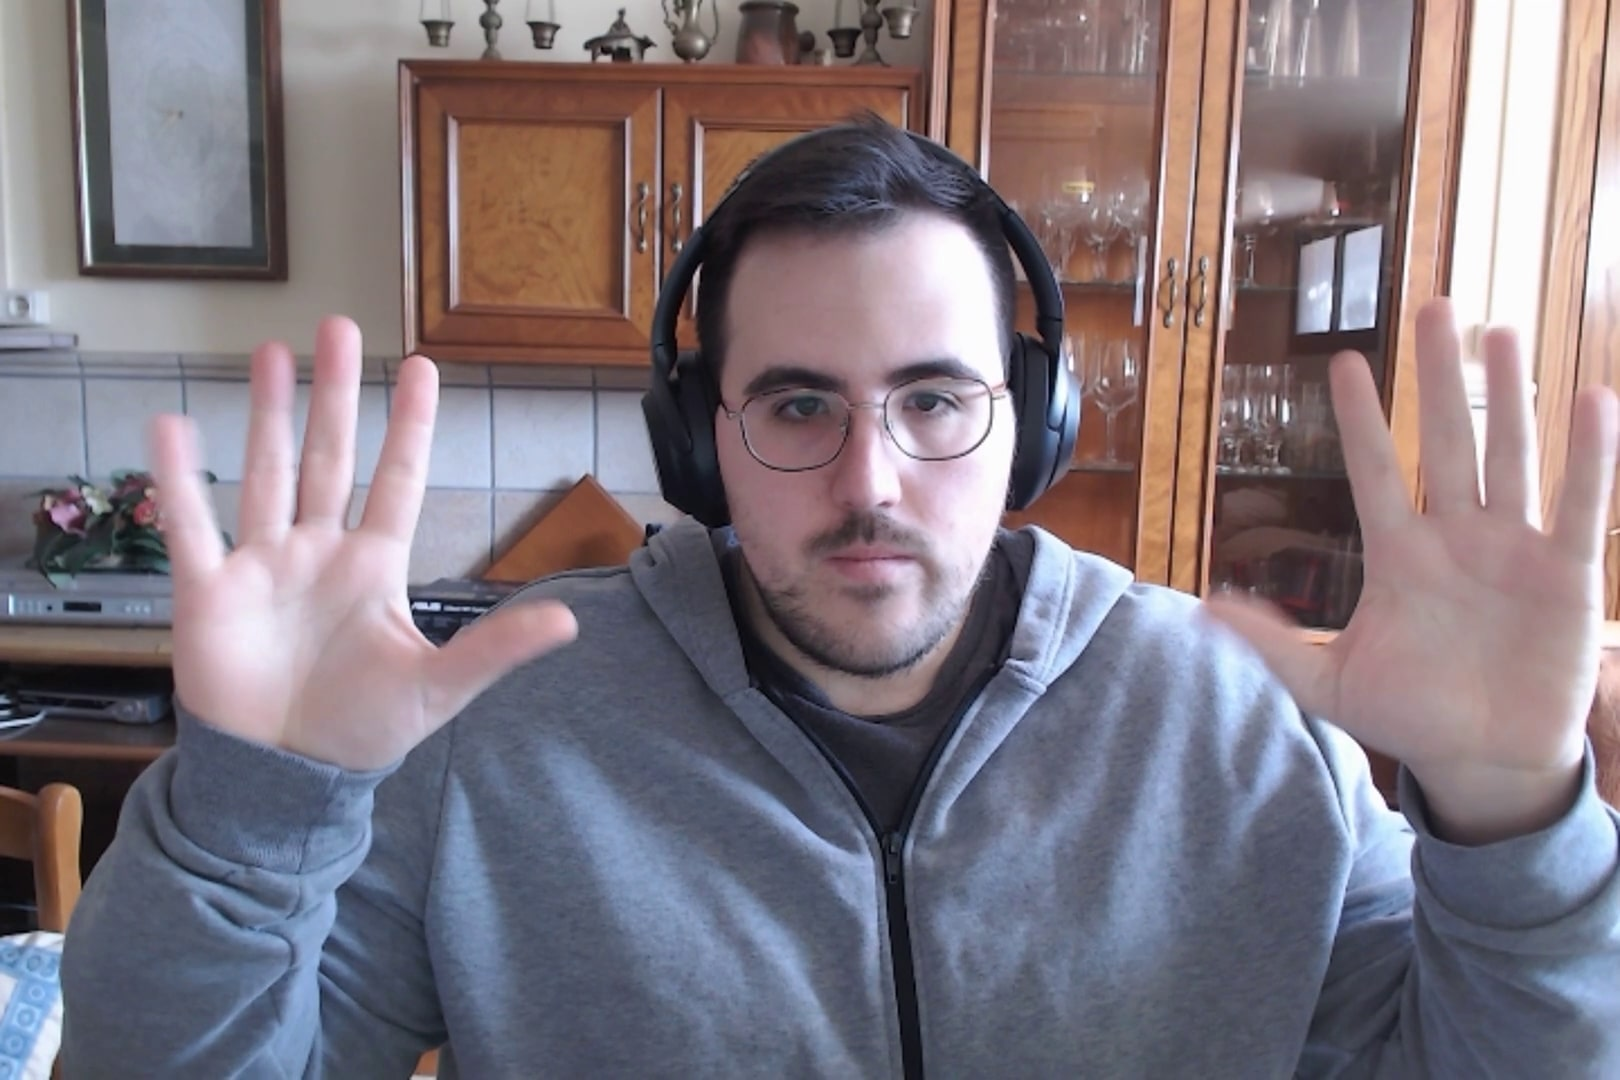hand: (1202, 288, 1620, 806), (148, 309, 589, 777)
